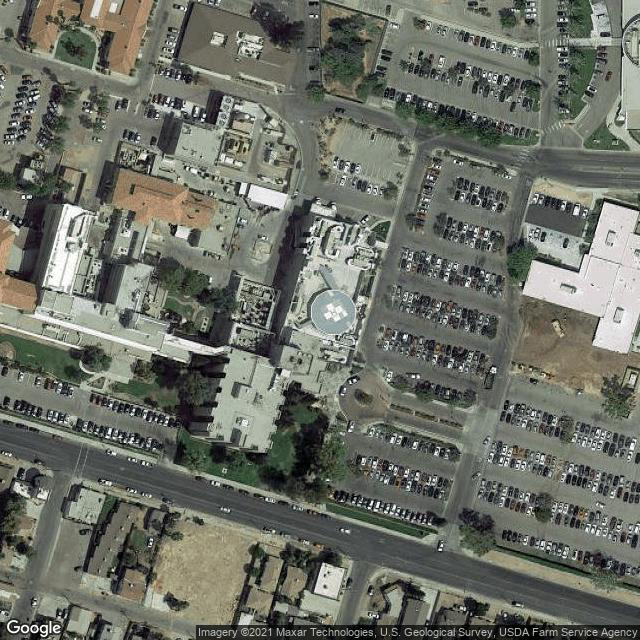Helipad: (317, 298, 350, 330)
